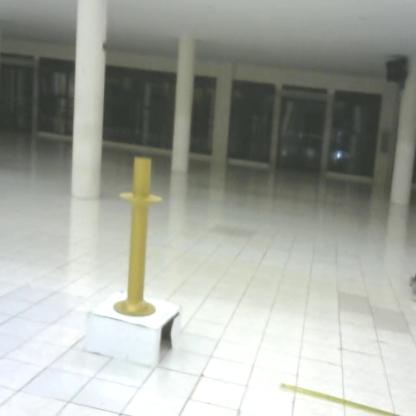pole: (110, 152, 168, 320)
